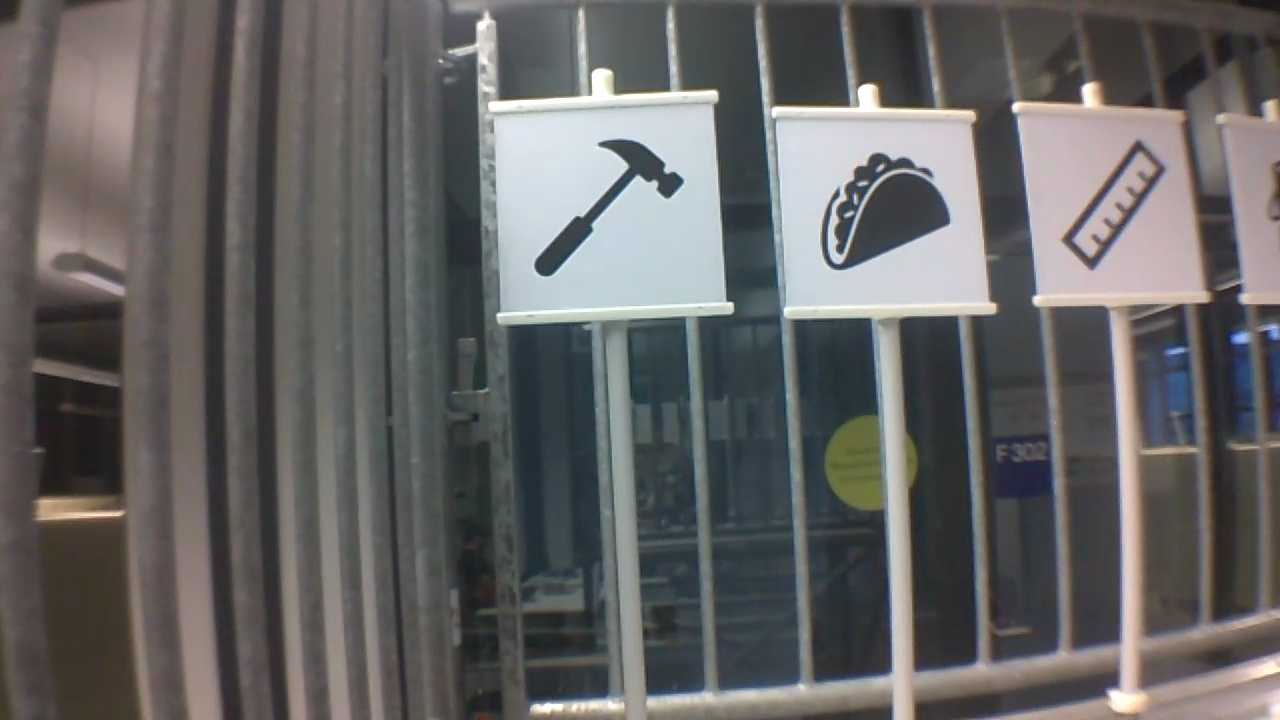hammer: (527, 133, 690, 284)
ruler: (1052, 135, 1173, 276)
taco: (816, 148, 958, 274)
